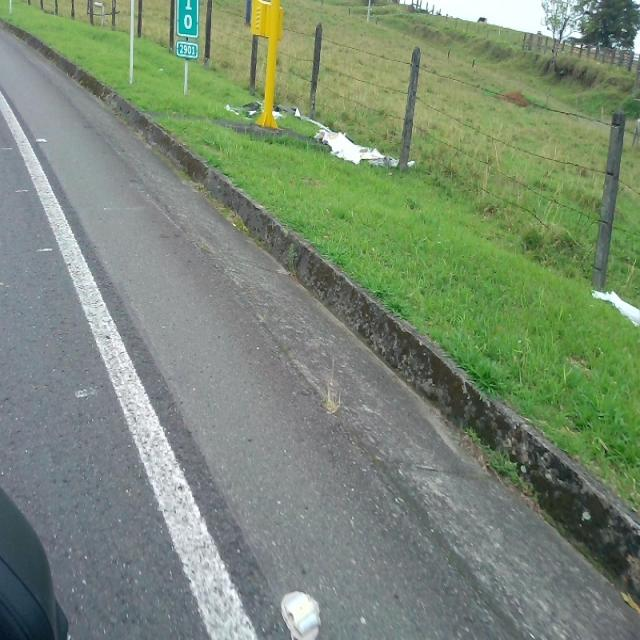DITCH: (1, 18, 639, 638)
